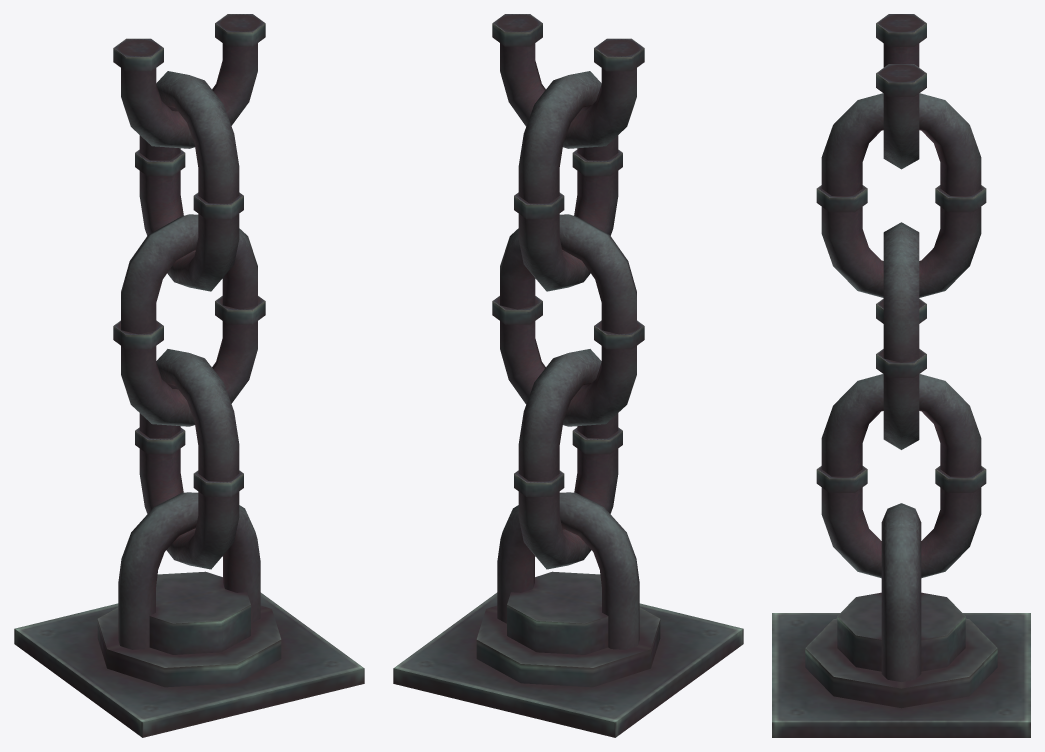
The model's file is M11_B_tielian001.FBX.
3 views of the same model, side by side, from view 1: azimuth 30°, elevation 25°; view 2: azimuth 150°, elevation 25°; view 3: azimuth 270°, elevation 25° (orthographic).
Visible parts, largest first — view 1: M11_B_tielian001; view 2: M11_B_tielian001; view 3: M11_B_tielian001.
Boxes of the visible parts, x1,y1,x2,y2 form: M11_B_tielian001: (14,14,364,737); M11_B_tielian001: (393,14,743,737); M11_B_tielian001: (772,14,1030,737).
Bounding box in the file's own units: 238 × 644 × 238.
